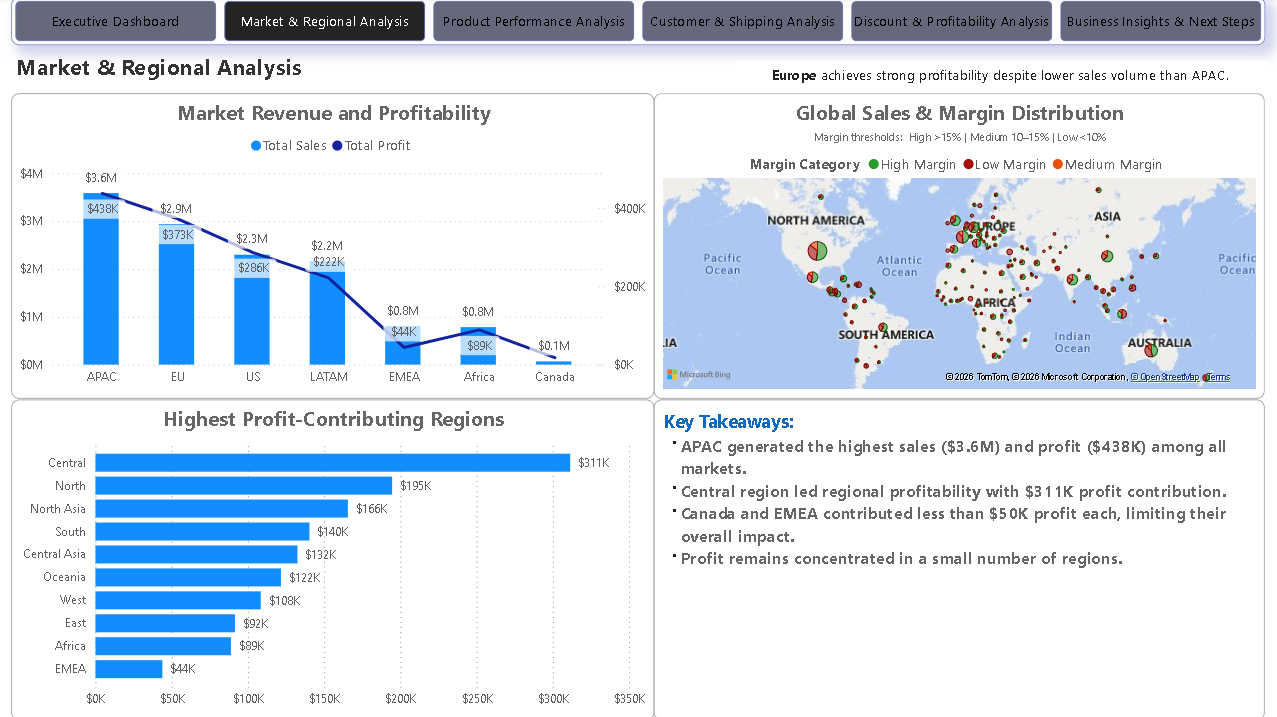

The dashboard page shown, as its layout file describes it:
{"tool":"powerbi","page":{"name":"Market & Regional Analysis","canvas":[1280,720],"ordinal":1},"visuals":[{"type":"textbox","box":[16,48,560,48],"z":0},{"type":"clusteredBarChart","title":"Highest Profit-Contributing Regions","fields":{"Category":["in.region"],"Y":["Measure.Total Profit"]},"box":[16,400,640,320],"z":1000},{"type":"pageNavigator","box":[16,0,1248,48],"z":2000},{"type":"map","title":"Global Sales & Margin Distribution","fields":{"Category":["RetailSales.country"],"Size":["Measure.Total Sales"],"Series":["RetailSales.Margin Category"]},"box":[656,96,608,304],"z":3000},{"type":"lineClusteredColumnComboChart","title":"Market Revenue and Profitability","fields":{"Category":["RetailSales.market"],"Y":["Measure.Total Sales"],"Y2":["Measure.Total Profit"]},"box":[16,96,640,304],"z":4000},{"type":"textbox","box":[656,400,608,320],"z":5000},{"type":"textbox","box":[736,64,528,32],"z":6000}]}

Visuals, with their boxes in screenshot pixels (x1, y1, x2, y2), scaled from the page's 1280x720 canvas onto the 1277x717 screenshot:
textbox: bbox(16, 48, 575, 96)
"Highest Profit-Contributing Regions" clusteredBarChart: bbox(16, 398, 654, 716)
pageNavigator: bbox(16, 0, 1261, 48)
"Global Sales & Margin Distribution" map: bbox(654, 96, 1261, 398)
"Market Revenue and Profitability" lineClusteredColumnComboChart: bbox(16, 96, 654, 398)
textbox: bbox(654, 398, 1261, 716)
textbox: bbox(734, 64, 1261, 96)
